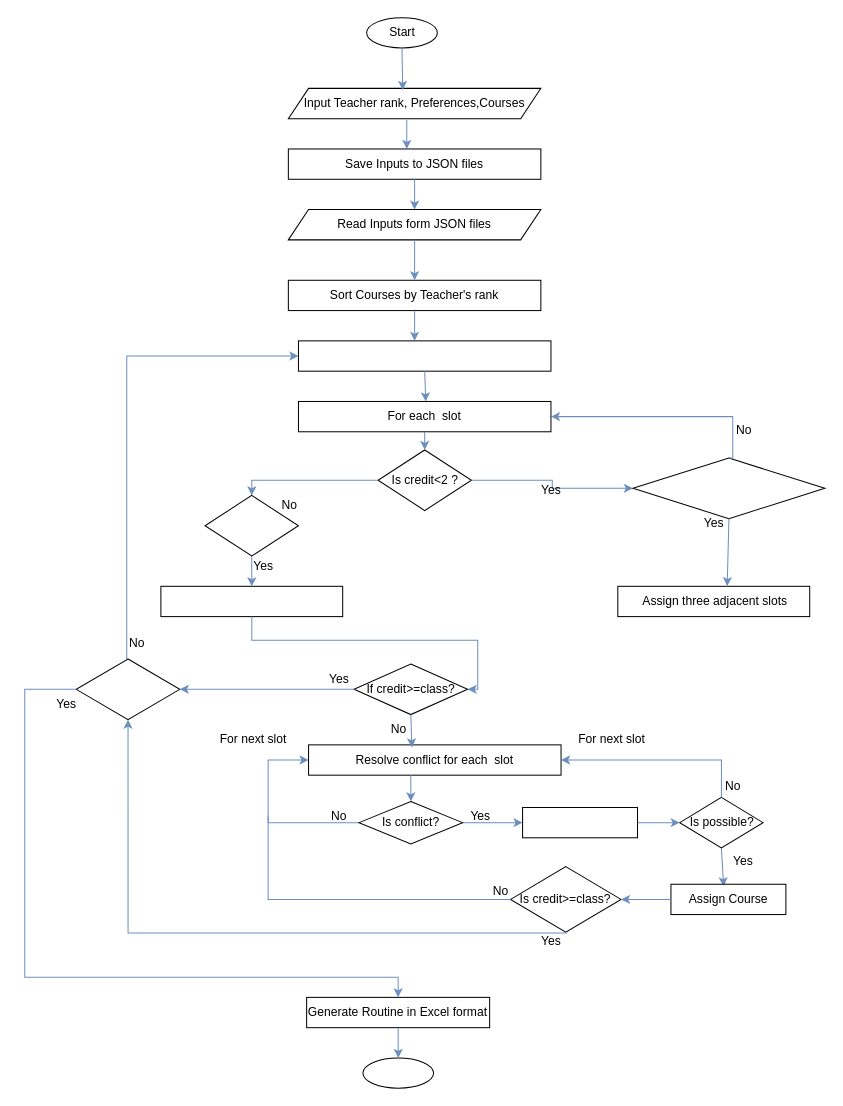
This 843x1106 diagram has some shape labels left out. The shapes that lost their labels are listed below. From the top down, each one's box as (x1, y1, x2, y2) in pixels, then its label:
(297, 340, 551, 371): For each Course
(632, 457, 825, 519): Can assign three adjacent slots?
(204, 494, 298, 556): Can assign?
(160, 585, 343, 617): Assign credit number of slots
(75, 658, 180, 720): Is assigned all course?
(522, 806, 638, 838): reassign current Course
(362, 1057, 434, 1088): End
